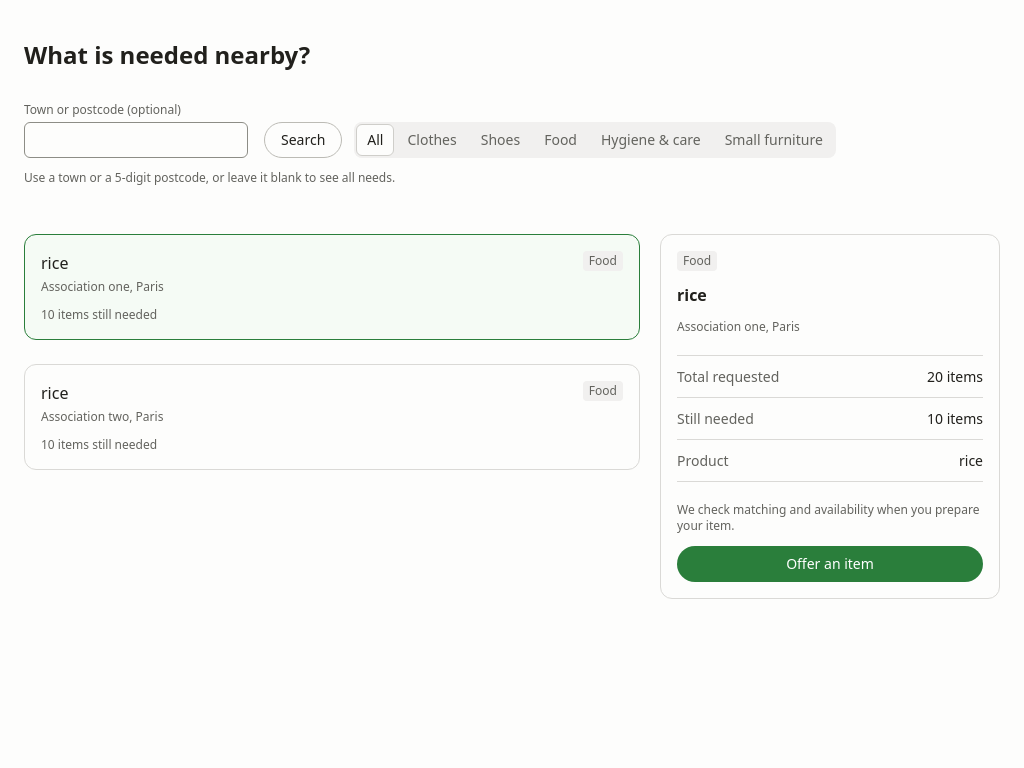
selects the first result after the location search changes
Click the 2nd button with class "need-row": [85, 416] box [24,364,640,470]
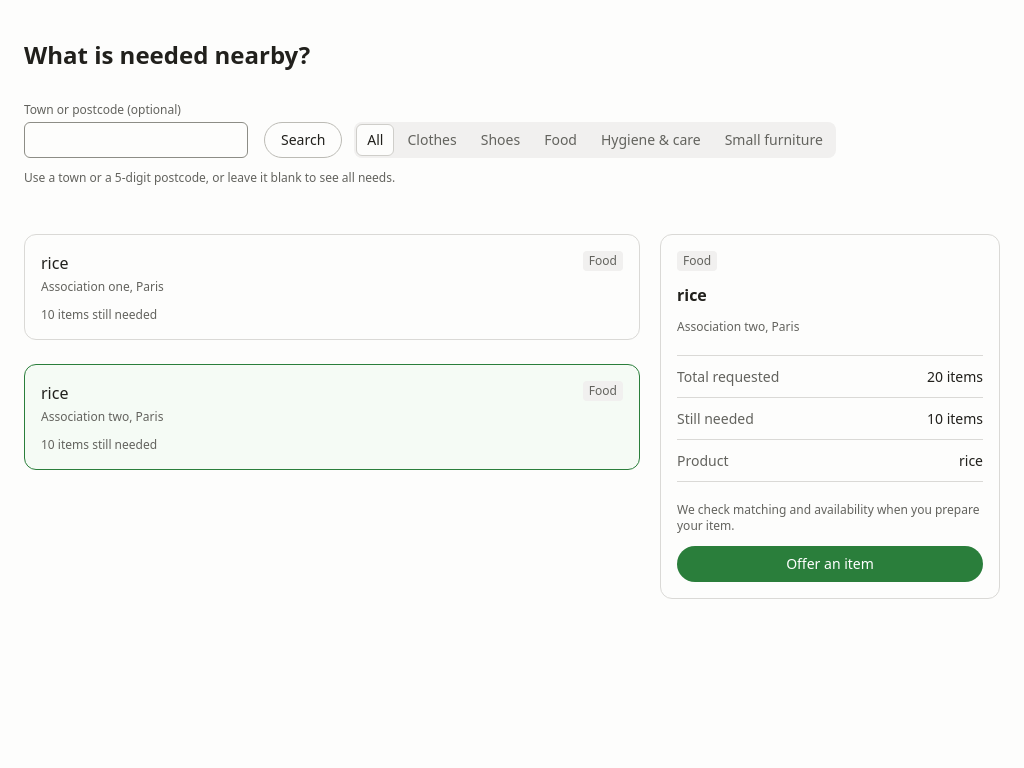
Check: the element named "Selected need" shows "Association two", box [677,318,765,335]
In the field named "location": [136, 140] box [24,122,248,158], type "Paris"
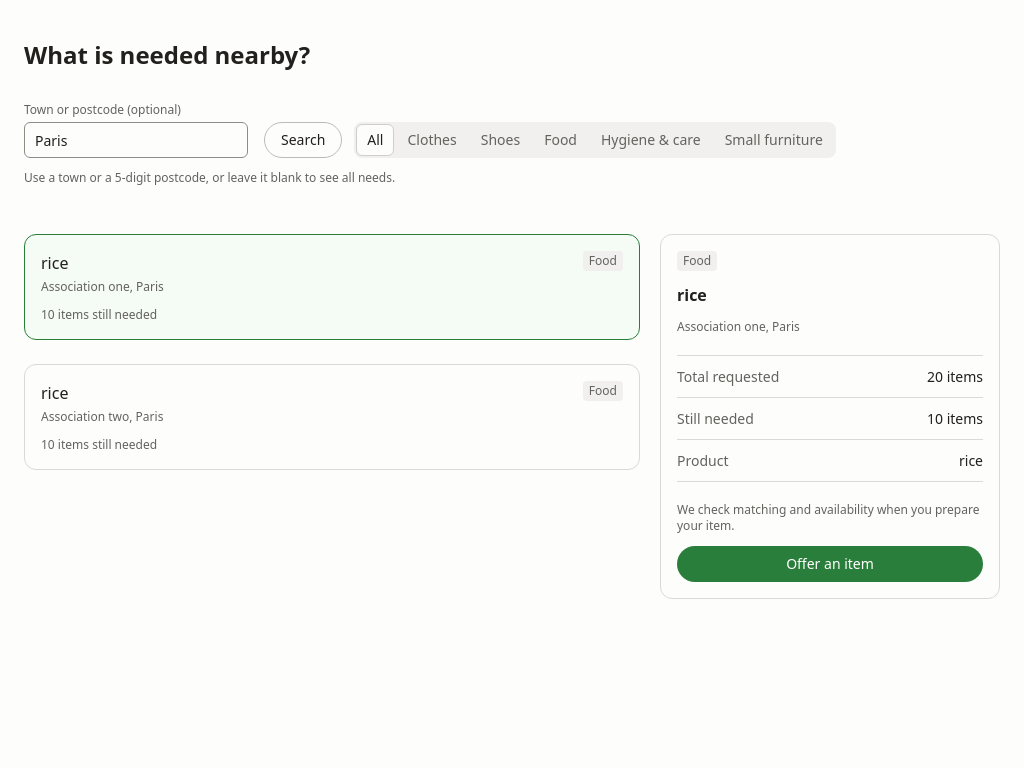
Check: the button with class "need-row" shows "Association one", box [24,234,640,340]
Check: the element named "Selected need" shows "Association one", box [677,318,766,335]
